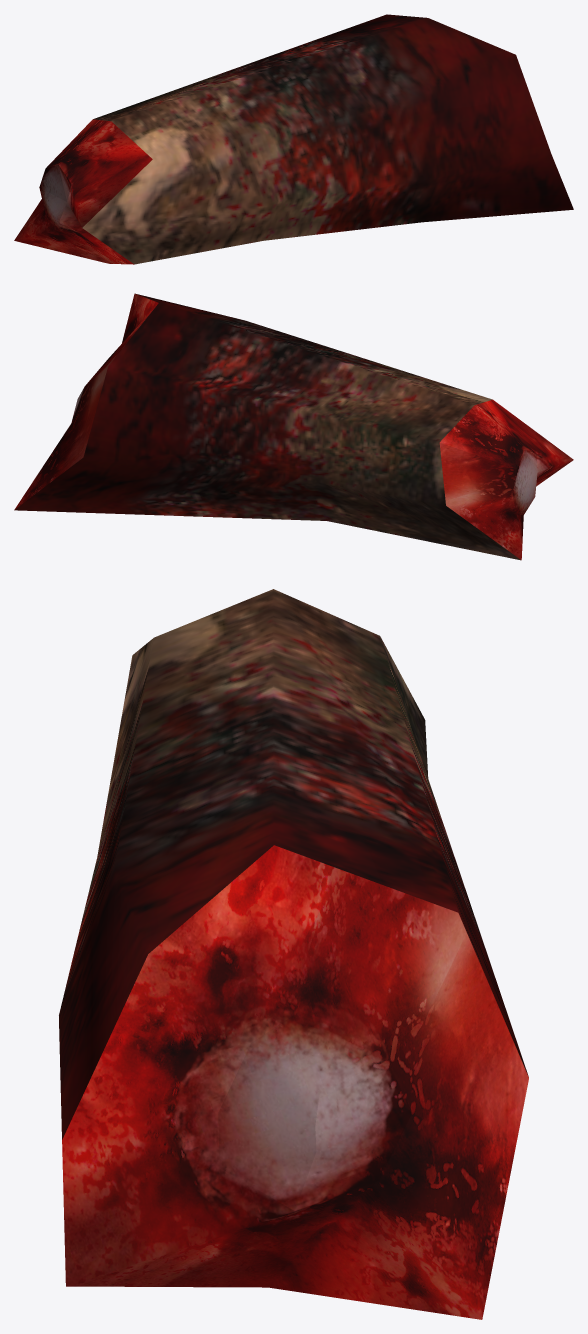
Rendered from rt_uparm.fbx.
The picture shows the model from 3 angles, top to bottom: view 1: azimuth 30°, elevation 25°; view 2: azimuth 150°, elevation 25°; view 3: azimuth 270°, elevation 25°; orthographic projection. The views are drawn at different scales.
Visible parts, largest first — view 1: rt_uparm_gib; view 2: rt_uparm_gib; view 3: rt_uparm_gib.
Part boxes in pixels (x1,y1,x2,y2): rt_uparm_gib: (14,14,573,264); rt_uparm_gib: (14,293,573,560); rt_uparm_gib: (59,589,528,1319).
Size of the model in its own units: 0.3832 by 0.1551 by 0.1625.
